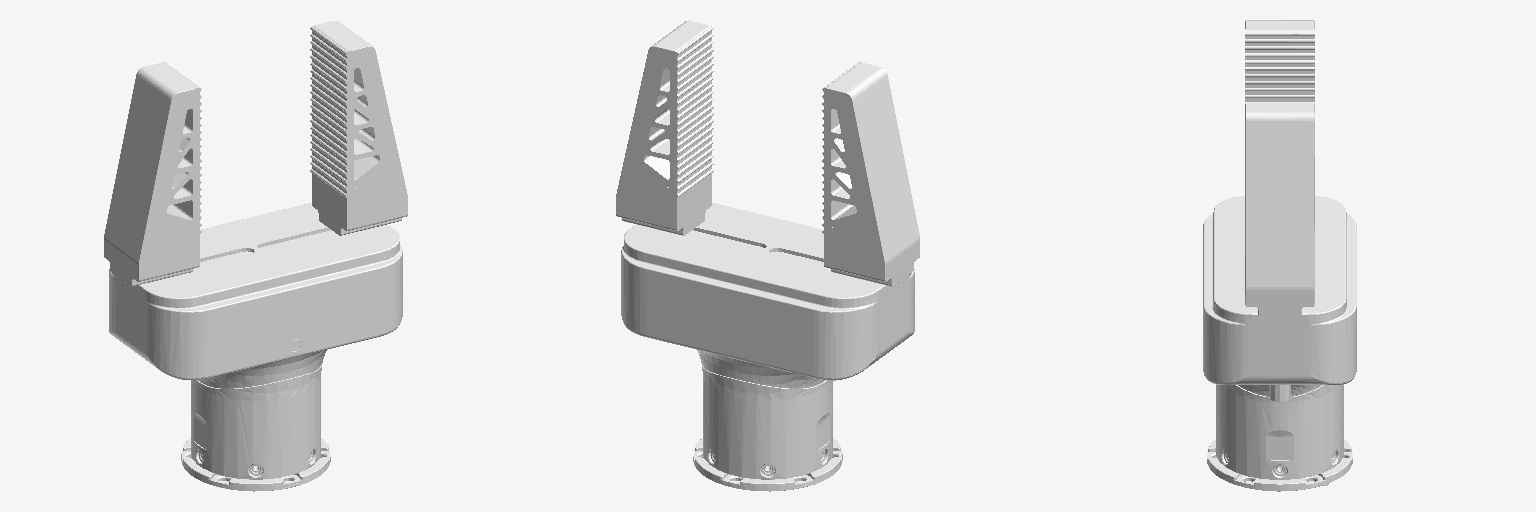
The robot description file, URDF, robot "RMG65":
<?xml version="1.0" encoding="utf-8"?>
<!-- This URDF was automatically created by SolidWorks to URDF Exporter! Originally created by Stephen Brawner (brawner@gmail.com) 
     Commit Version: 1.6.0-1-g15f4949  Build Version: 1.6.7594.29634
     For more information, please see http://wiki.ros.org/sw_urdf_exporter -->
<robot
  name="RMG65">
  <link
    name="tool_baselink">
    <inertial>
      <origin
        xyz="-0.00028430 0.00013931 0.05138811"
        rpy="0 0 0" />
      <mass
        value="0.632" />
      <inertia
        ixx="0.00044250"
        ixy="0.00001904"
        ixz="-0.00000226"
        iyy="0.00059496"
        iyz="0.00000062"
        izz="0.00037397" />
    </inertial>
    <visual>
      <origin
        xyz="0 0 0"
        rpy="0 0 0" />
      <geometry>
        <mesh
          filename="package://RMG65/meshes/tool_baselink.STL" />
      </geometry>
      <material
        name="">
        <color
          rgba="1 1 1 1" />
      </material>
    </visual>
    <collision>
      <origin
        xyz="0 0 0"
        rpy="0 0 0" />
      <geometry>
        <mesh
          filename="package://RMG65/meshes/tool_baselink.STL" />
      </geometry>
    </collision>
  </link>
  <link
    name="tool_link1">
    <inertial>
      <origin
        xyz="-0.04091419 0.00057291 -0.05132706"
        rpy="0 0 0" />
      <mass
        value=" 0.078" />
      <inertia
        ixx="0.00004803"
        ixy="-0.00000036"
        ixz="-0.00000196"
        iyy="0.00004735"
        iyz="0.00000139"
        izz="0.00000879" />
    </inertial>
    <visual>
      <origin
        xyz="0 0 0"
        rpy="0 0 0" />
      <geometry>
        <mesh
          filename="package://RMG65/meshes/tool_link1.STL" />
      </geometry>
      <material
        name="">
        <color
          rgba="1 1 1 1" />
      </material>
    </visual>
    <collision>
      <origin
        xyz="0 0 0"
        rpy="0 0 0" />
      <geometry>
        <mesh
          filename="package://RMG65/meshes/tool_link1.STL" />
      </geometry>
    </collision>
  </link>
  <joint
    name="tool_joint1"
    type="prismatic">
    <origin
      xyz="0 0 0.16998"
      rpy="0 0 0" />
    <parent
      link="tool_baselink" />
    <child
      link="tool_link1" />
    <axis
      xyz="1 0 0" />
    <limit
      lower="0"
      upper="0.0325"
      effort="50"
      velocity="0.2" />
  </joint>
  <link
    name="tool_link2">
    <inertial>
      <origin
        xyz="-0.04091419 0.00057291 -0.05132706"
        rpy="0 0 0" />
      <mass
        value=" 0.078" />
      <inertia
        ixx="0.00004803"
        ixy="-0.00000036"
        ixz="-0.00000196"
        iyy="0.00004735"
        iyz="0.00000139"
        izz="0.00000879" />
    </inertial>
    <visual>
      <origin
        xyz="0 0 0"
        rpy="0 0 0" />
      <geometry>
        <mesh
          filename="package://RMG65/meshes/tool_link2.STL" />
      </geometry>
      <material
        name="">
        <color
          rgba="1 1 1 1" />
      </material>
    </visual>
    <collision>
      <origin
        xyz="0 0 0"
        rpy="0 0 0" />
      <geometry>
        <mesh
          filename="package://RMG65/meshes/tool_link2.STL" />
      </geometry>
    </collision>
  </link>
  <joint
    name="tool_joint2"
    type="prismatic">
    <origin
      xyz="0 0 0.16998"
      rpy="0 0 3.1416" />
    <parent
      link="tool_baselink" />
    <child
      link="tool_link2" />
    <axis
      xyz="1 0 0" />
    <limit
      lower="0"
      upper="0.0325"
      effort="0"
      velocity="0" />
    <mimic
      joint="tool_joint1"
      multiplier="1"
      offset="0" />
  </joint>
</robot>

--- What the picture shows (computed from the rendered views, not written in the file) ---
3 views of the same robot in one strip: view 1: azimuth 30°, elevation 25°; view 2: azimuth 150°, elevation 25°; view 3: azimuth 270°, elevation 25° (orthographic).
Model RMG65 with 3 links and 2 joints (2 prismatic), rooted at tool_baselink, posed all joints at 0.
Visible links, largest first — view 1: tool_baselink, tool_link1, tool_link2; view 2: tool_baselink, tool_link1, tool_link2; view 3: tool_baselink, tool_link2, tool_link1.
Boxes of the visible links, <box> form: tool_baselink: <box>109,203,402,491</box>; tool_link1: <box>104,62,201,286</box>; tool_link2: <box>310,21,407,235</box>; tool_baselink: <box>621,203,914,491</box>; tool_link1: <box>822,62,919,286</box>; tool_link2: <box>616,20,713,235</box>; tool_baselink: <box>1203,196,1356,491</box>; tool_link2: <box>1245,102,1314,315</box>; tool_link1: <box>1245,20,1314,101</box>.
Size in the robot's own frame: 0.119 by 0.06 by 0.172 metres.
3 mesh visuals loaded from 3 distinct referenced files (3 binary STL).
